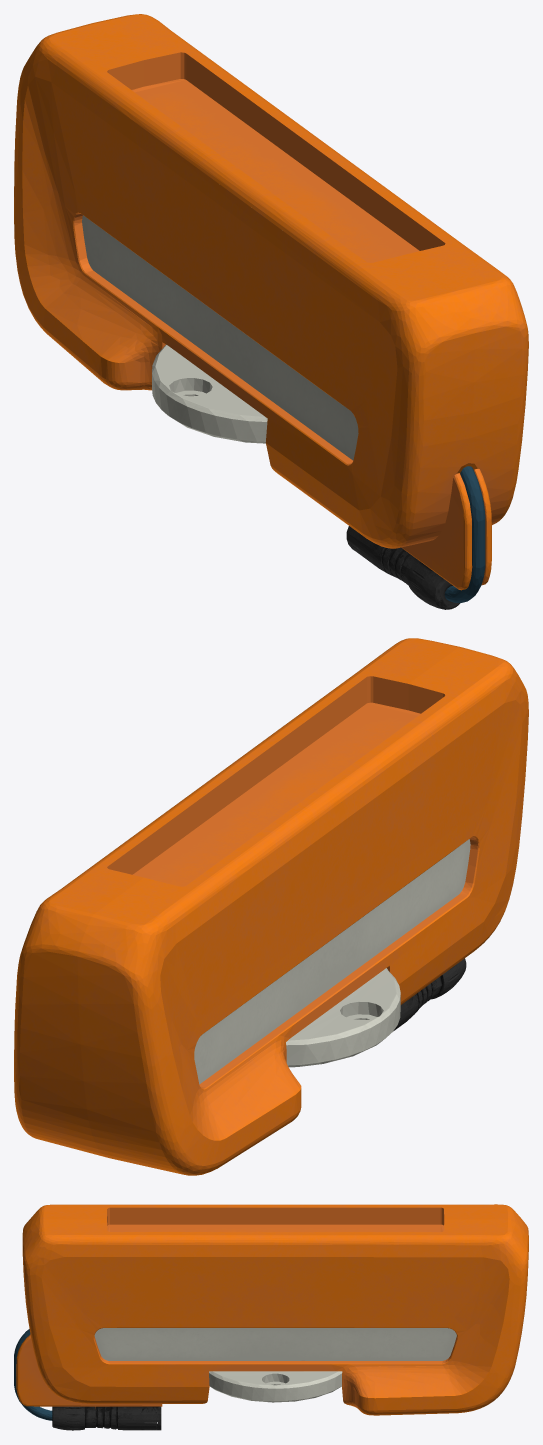
The model's file is hand.dae.
3 views of the same model, one above another, from view 1: azimuth 30°, elevation 25°; view 2: azimuth 150°, elevation 25°; view 3: azimuth 270°, elevation 25° (orthographic). The views are drawn at different scales.
Visible parts, largest first — view 1: hand; view 2: hand; view 3: hand.
Boxes of the visible parts, <box> form: hand: <box>14,14,528,609</box>; hand: <box>14,638,528,1175</box>; hand: <box>14,1204,528,1430</box>.
Bounding box in the file's own units: 6.3 × 20.45 × 9.19.
1 material, 1 textured.
